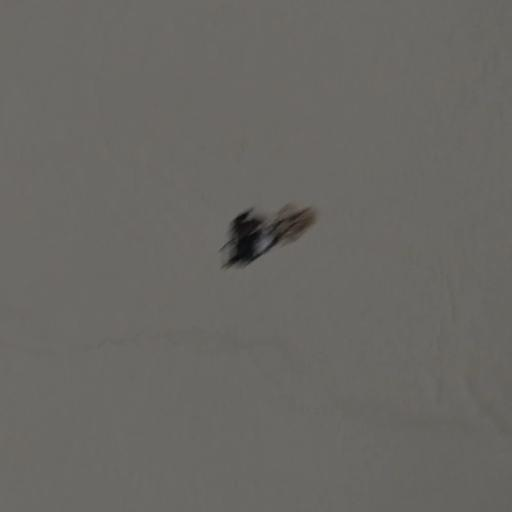stain: (209, 190, 329, 297)
